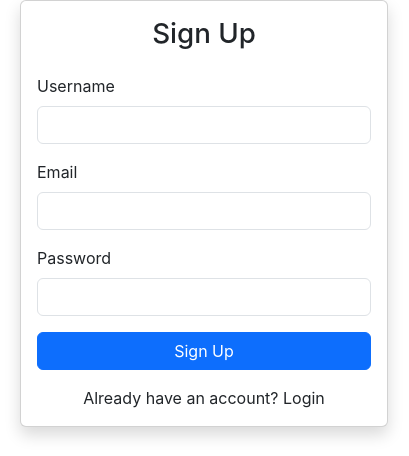
Test: Signup.vue › displays loading state during signup
In the field with test id "username-input": [204, 125] box left=37, top=106, right=371, bottom=144, type "testuser"
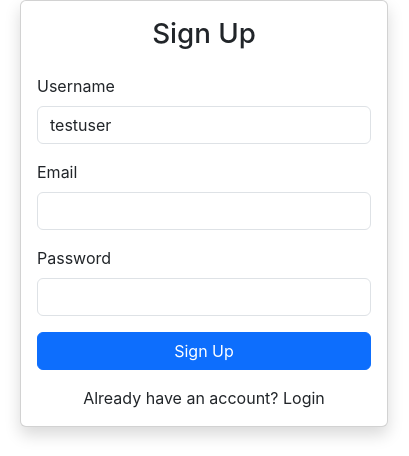
In the field with test id "email-input": [204, 211] box left=37, top=192, right=371, bottom=230, type "test@example.com"
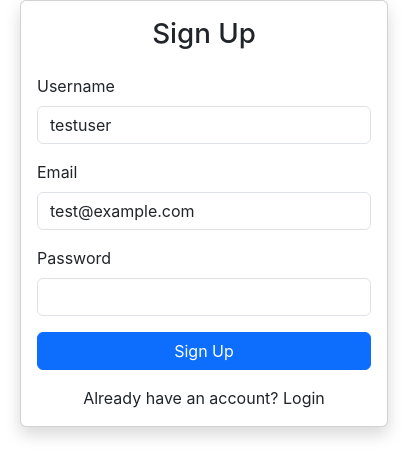
In the password field with test id "password-input": [204, 297] box left=37, top=278, right=371, bottom=316, type "password123"
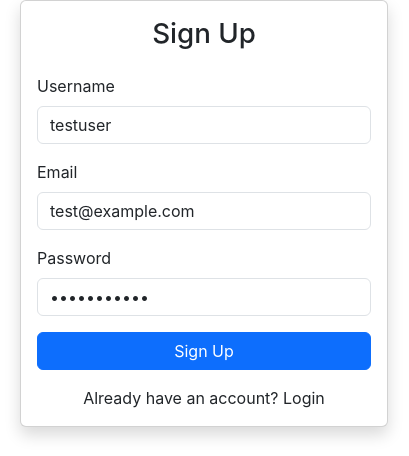
Submit the form, box left=37, top=74, right=371, bottom=370
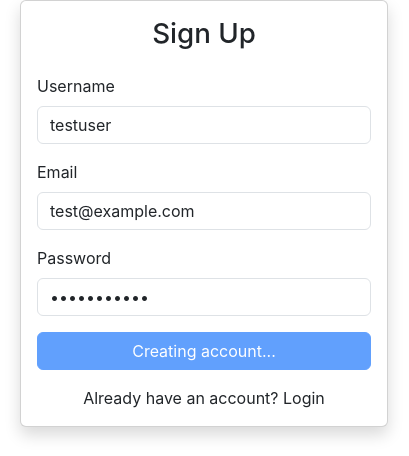
Check: the button with test id "signup-button" reads "Creating account...", box left=37, top=332, right=371, bottom=370
Check: the button with test id "signup-button" is disabled, box left=37, top=332, right=371, bottom=370
